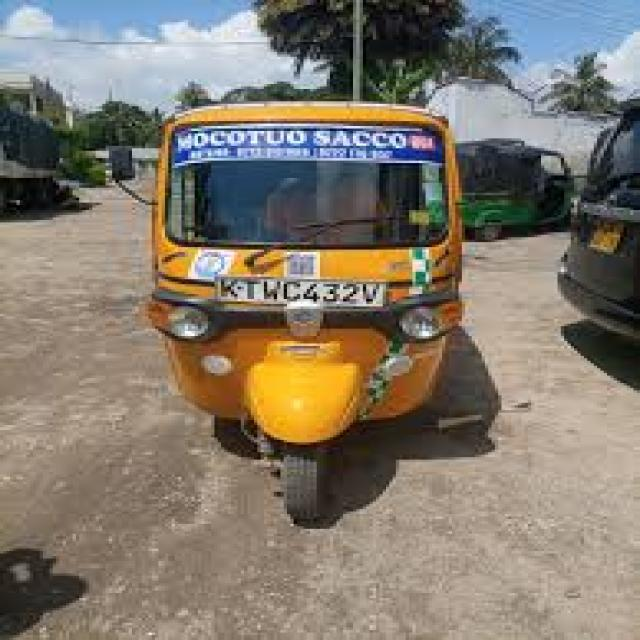tuktuk: (68, 0, 636, 582)
